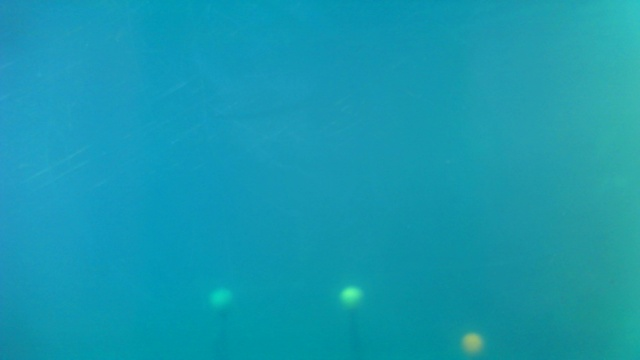buoy_red: (462, 332, 481, 352)
